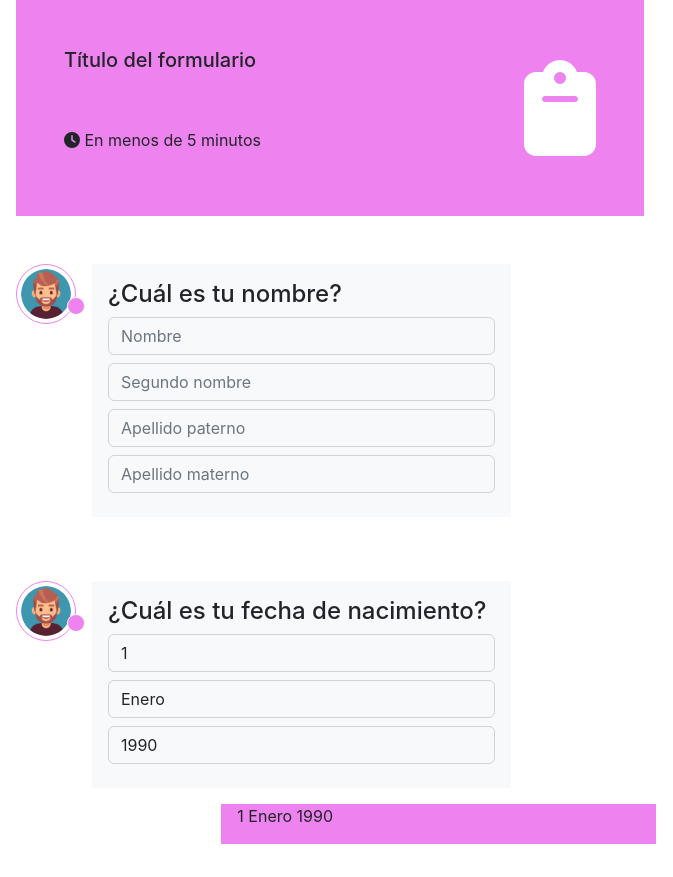
Test: Name section should › show error when trying to introduce symbols or numbers
Type "Ad4ir" into the field with placeholder "Nombre".
click(301, 336); type("Ad4ir")  # box [108,317,495,355]
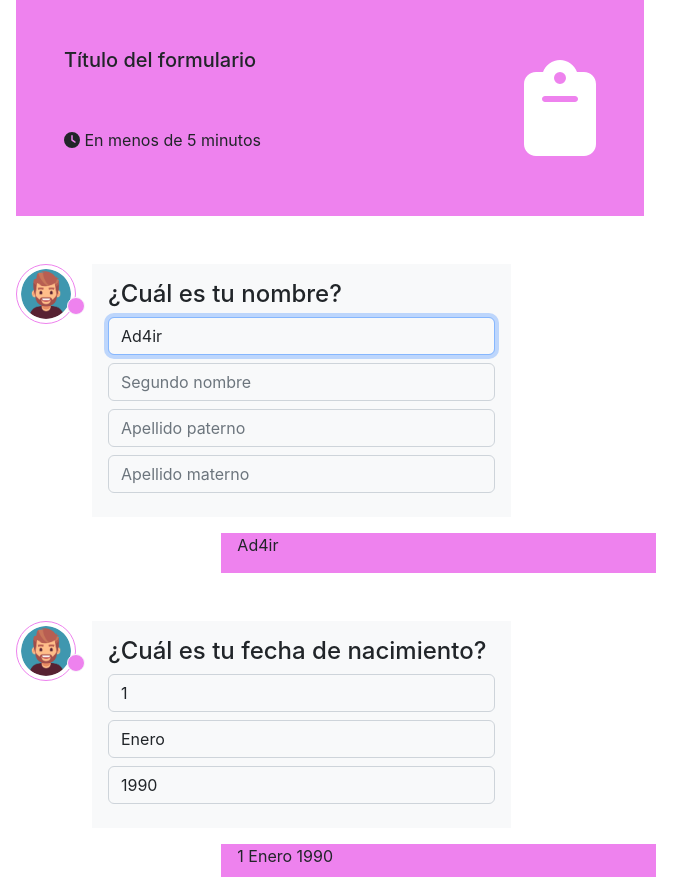
Type "8enjamín" into the field with placeholder "Segundo nombre".
click(301, 382); type("8enjamín")  # box [108,363,495,401]
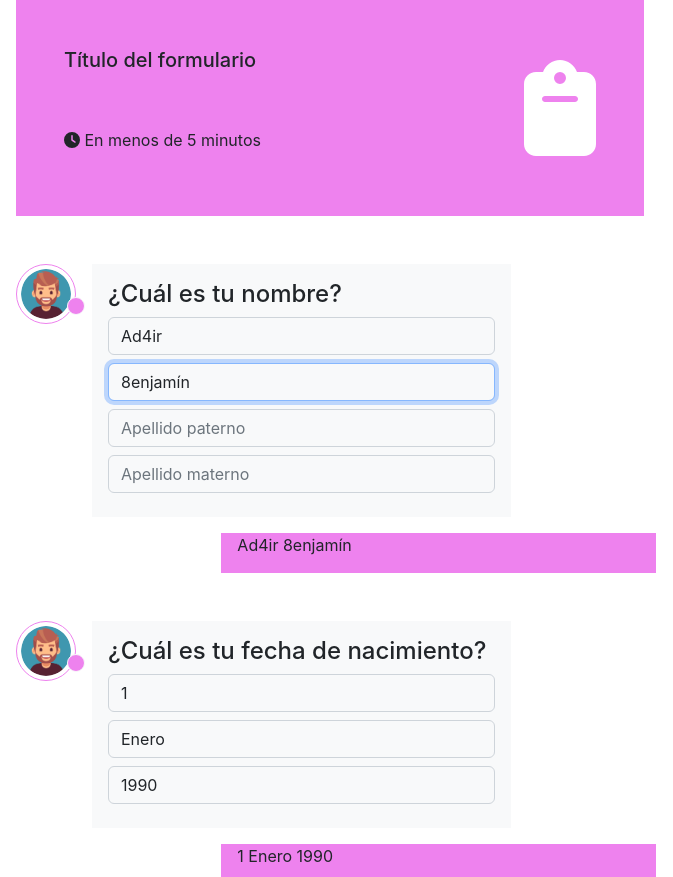
Type "Hern@ndez" into the field with placeholder "Apellido paterno".
click(301, 428); type("Hern@ndez")  # box [108,409,495,447]
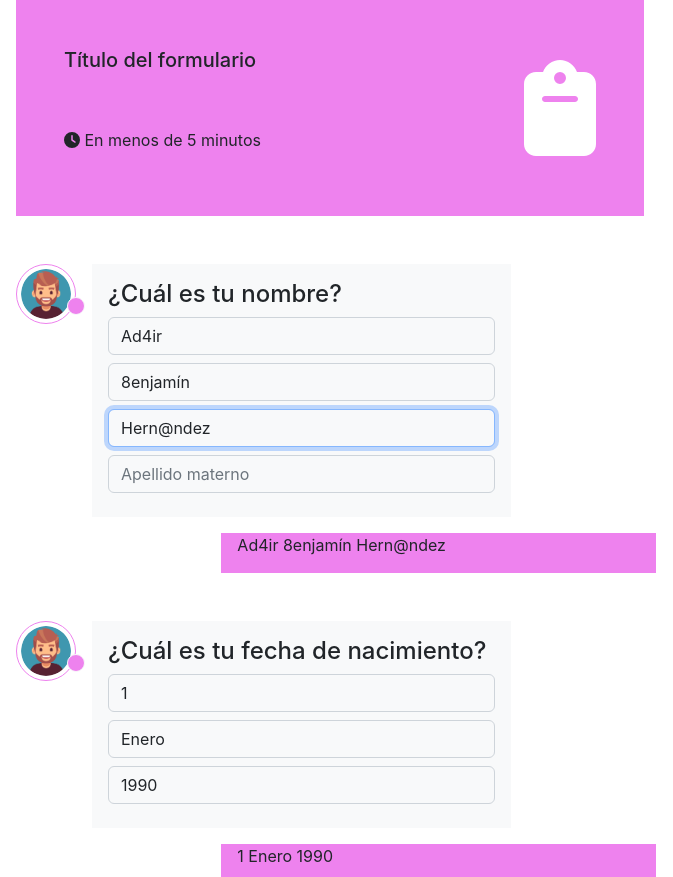
Type "0rt1z" into the field with placeholder "Apellido materno".
click(301, 474); type("0rt1z")  # box [108,455,495,493]
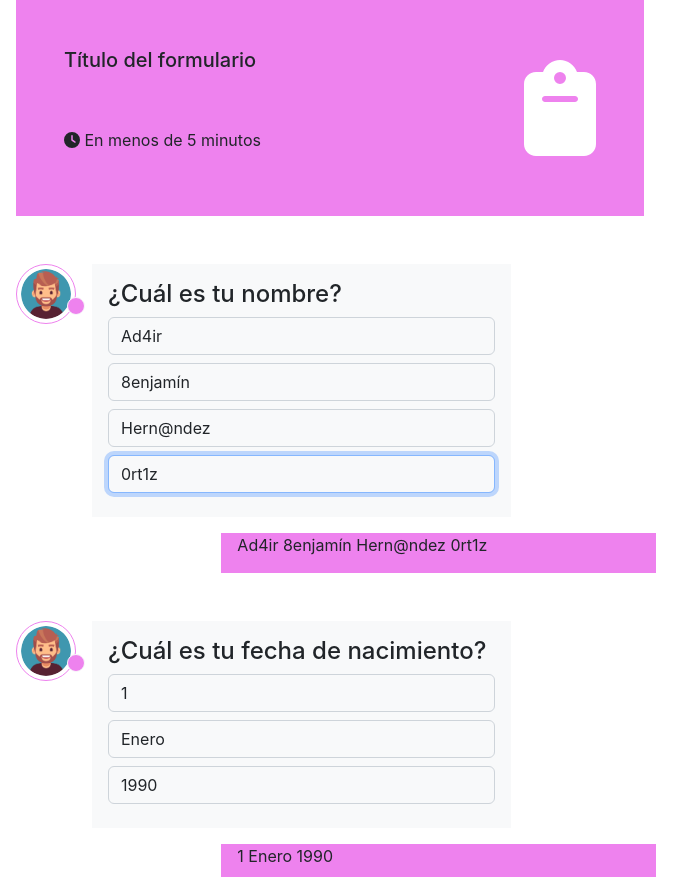
Click the 1st field with placeholder "Nombre".
click(301, 336)  # box [108,317,495,355]
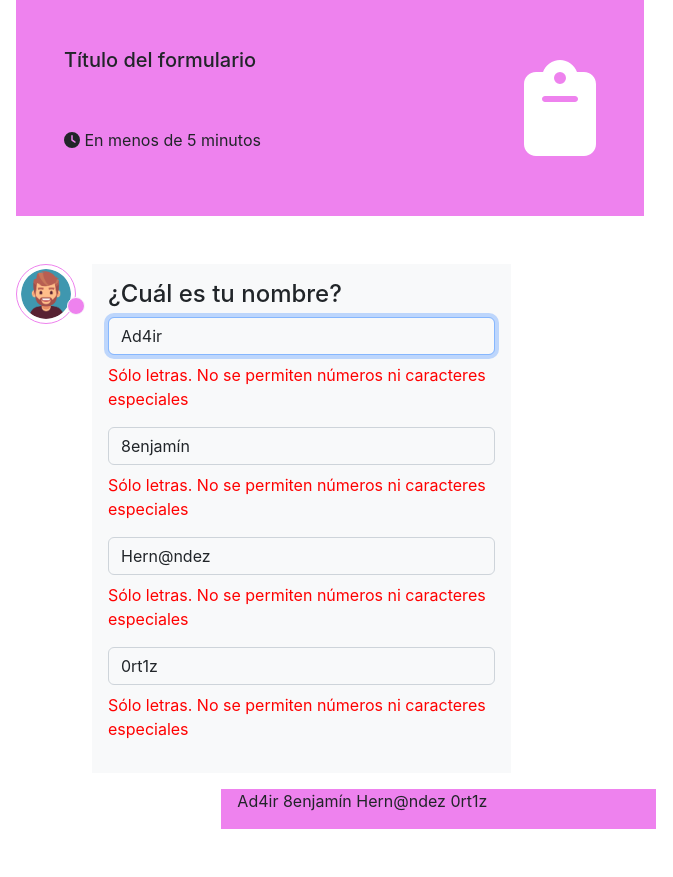
expect the text "Sólo letras. No se permiten números ni caracteres especiales" is shown 4 times: met, box [108,363,495,411]; [108,473,495,521]; [108,583,495,631]; [108,693,495,741]
